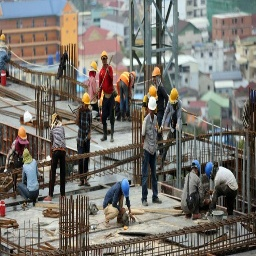helmet: (146, 95, 159, 116), (17, 126, 30, 146), (120, 178, 132, 199), (169, 89, 181, 108), (204, 158, 213, 177), (82, 90, 91, 108), (98, 52, 110, 65), (151, 65, 162, 78), (191, 161, 202, 173), (90, 59, 98, 74), (131, 70, 138, 83)
no-helmet: (48, 111, 58, 124), (22, 150, 32, 162)
no-vest: (75, 105, 96, 151), (142, 113, 158, 162), (20, 160, 41, 194), (181, 175, 200, 211), (216, 169, 237, 198), (51, 125, 68, 159), (100, 67, 115, 104), (103, 179, 122, 207)
person: (141, 97, 165, 213), (72, 87, 96, 189), (205, 160, 241, 217), (96, 175, 134, 228), (47, 110, 68, 205), (95, 51, 116, 145), (176, 160, 204, 220), (17, 147, 41, 203), (118, 69, 139, 116)
vest: (122, 70, 135, 88)
